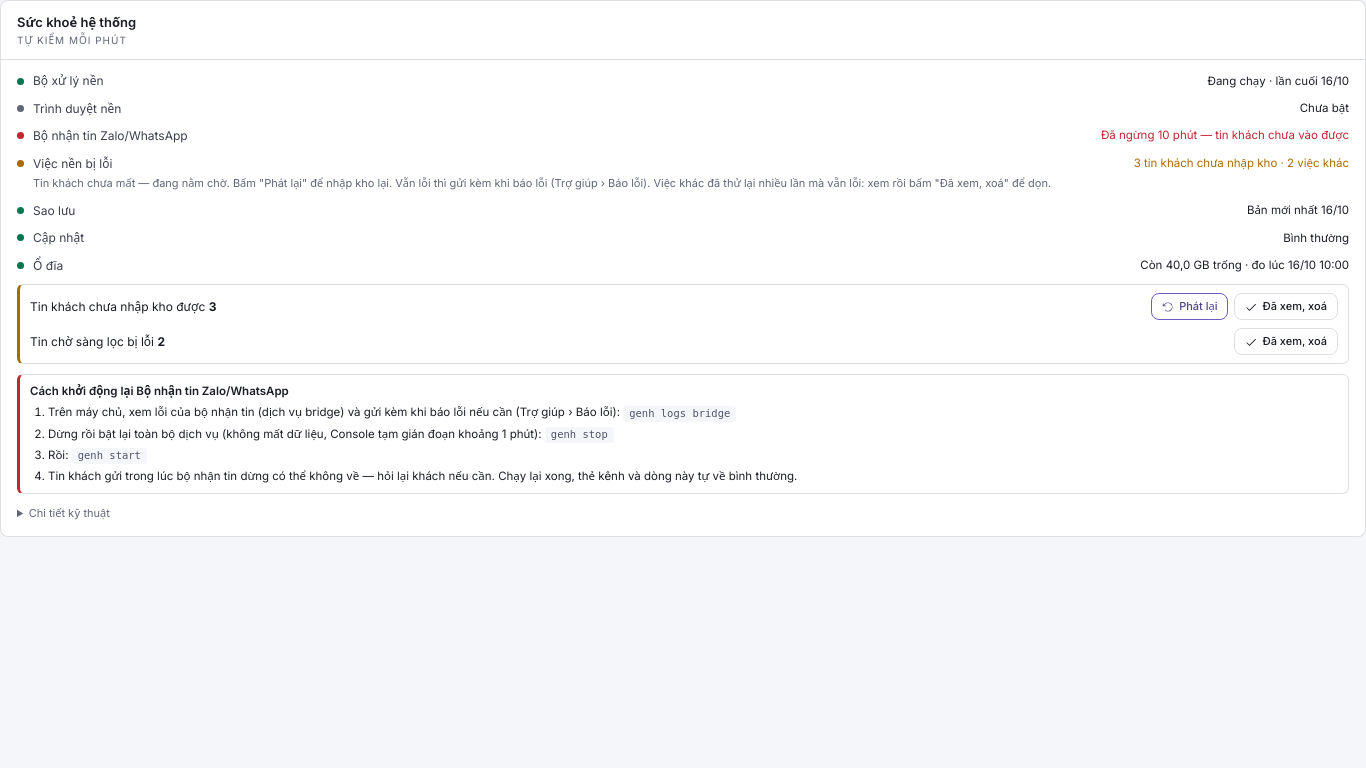
Test: <HealthCard> — hàng lỗi có lối xử lý › "Đã xem, xoá" hỏi lại một bước (không hoàn tác); "Giữ lại" không gọi gì; "Xoá luôn" gọi clear
Click the button "Đã xem, xoá" in the row of "Tin chờ sàng lọc bị lỗi" at (1286, 342), box [1234, 328, 1338, 355]
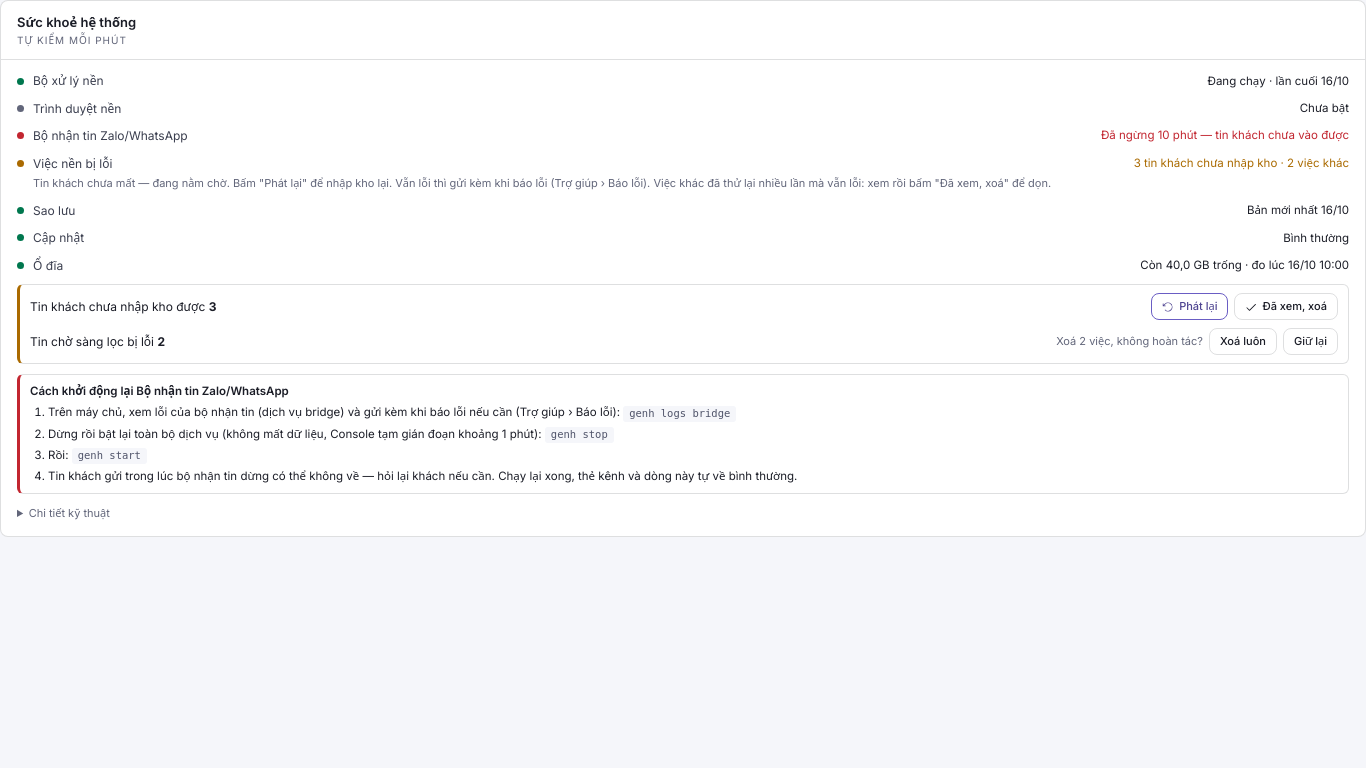
Check: the element with test id "health-queue-gh.clean.ready" shows "Xoá 2 việc, không hoàn tác?", box [30, 328, 1338, 355]
Click the button "Giữ lại" at (1310, 342), box [1283, 328, 1338, 355]
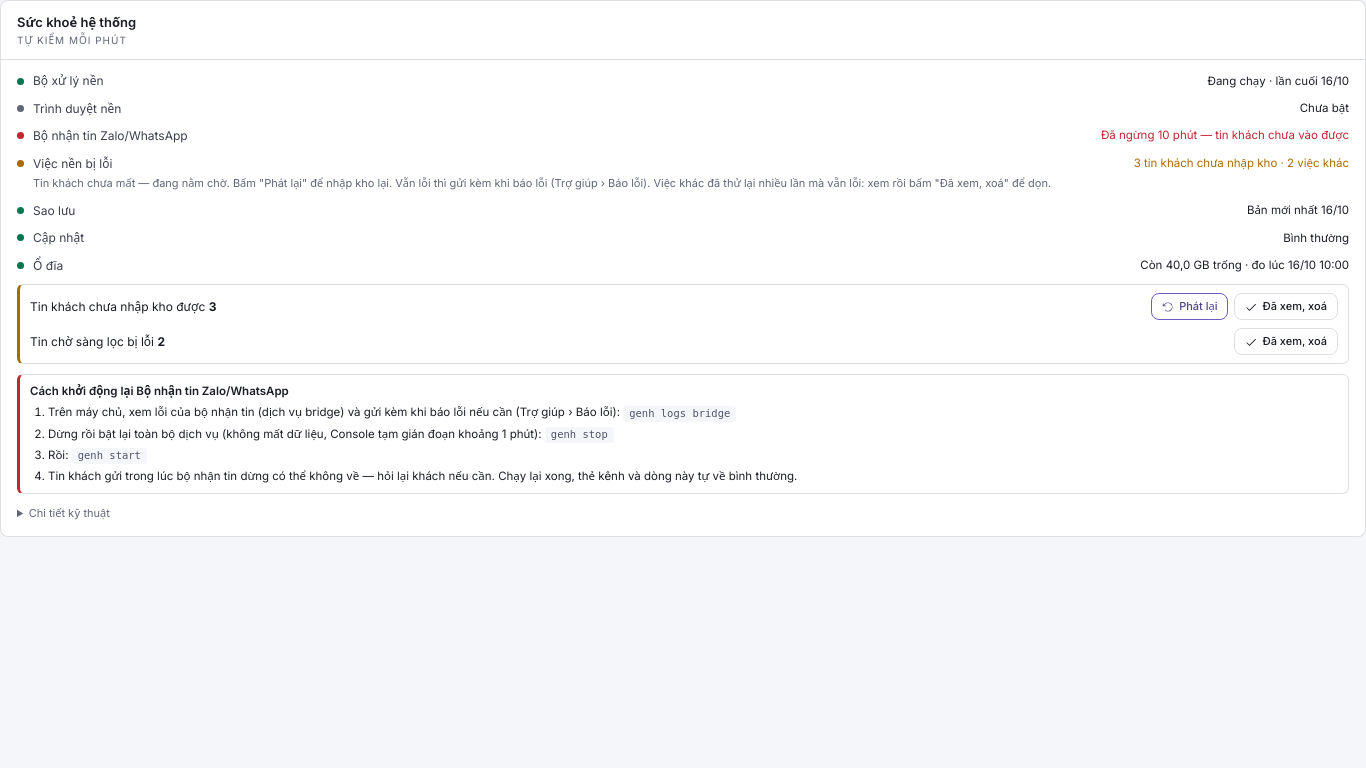
Click the button "Đã xem, xoá" in the row of "Tin chờ sàng lọc bị lỗi" at (1286, 342), box [1234, 328, 1338, 355]
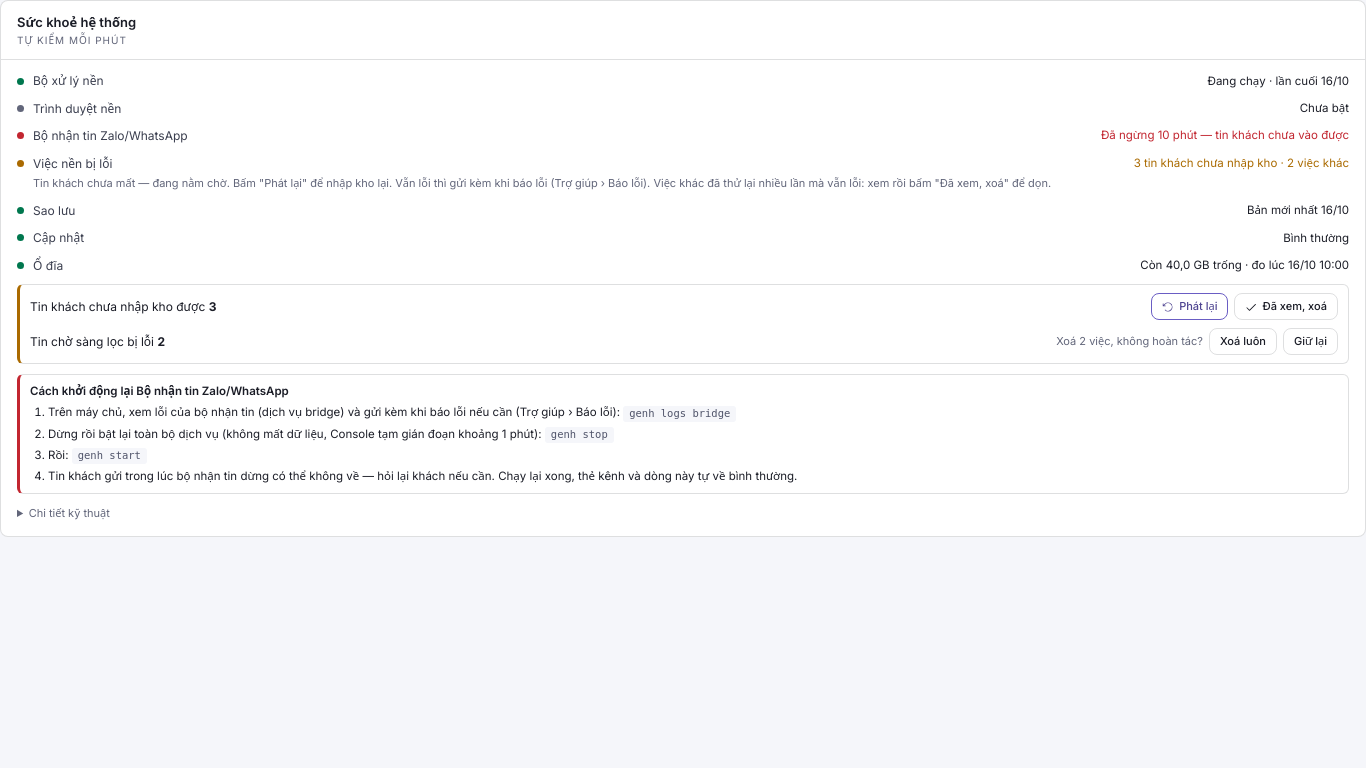
Click the button "Xoá luôn" at (1243, 342), box [1209, 328, 1277, 355]
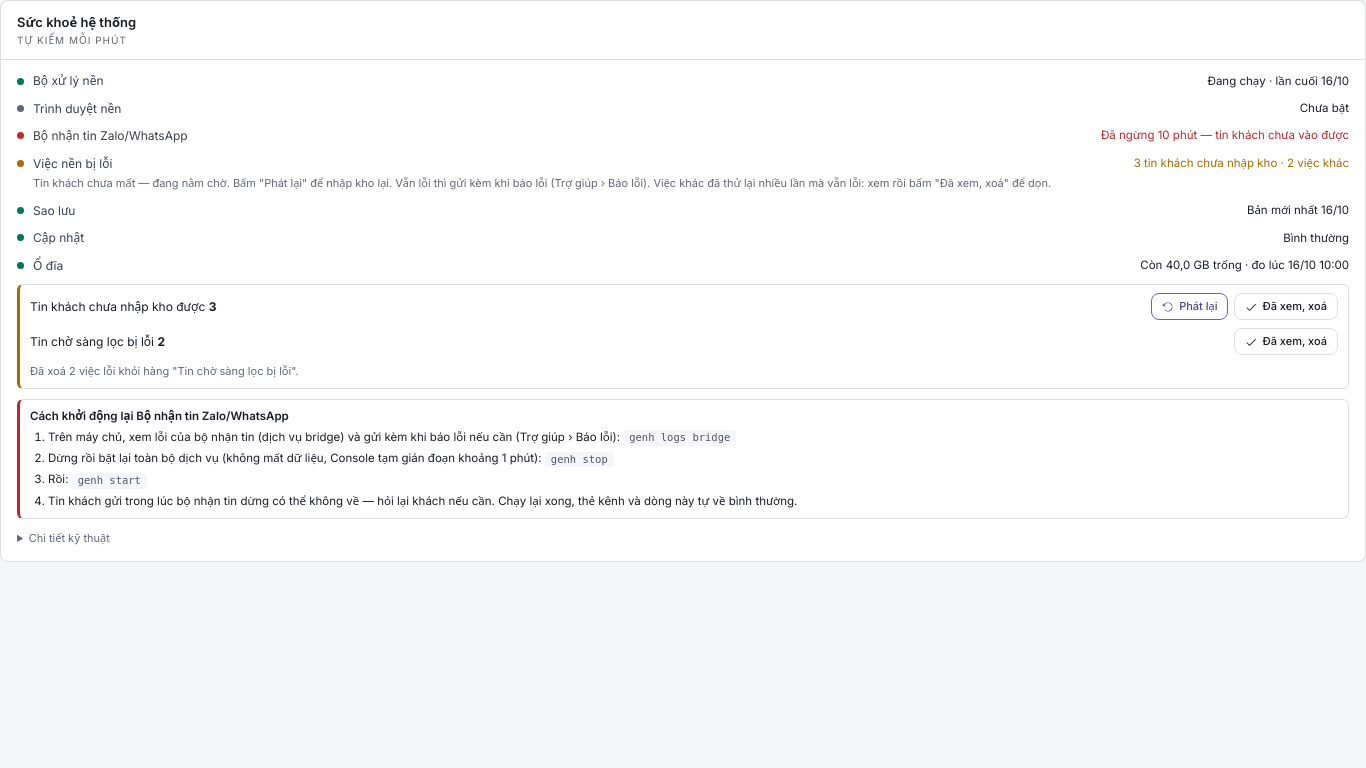
Check: the message with test id "health-queue-done" shows "Đã xoá 2 việc lỗi", box [30, 364, 299, 378]
